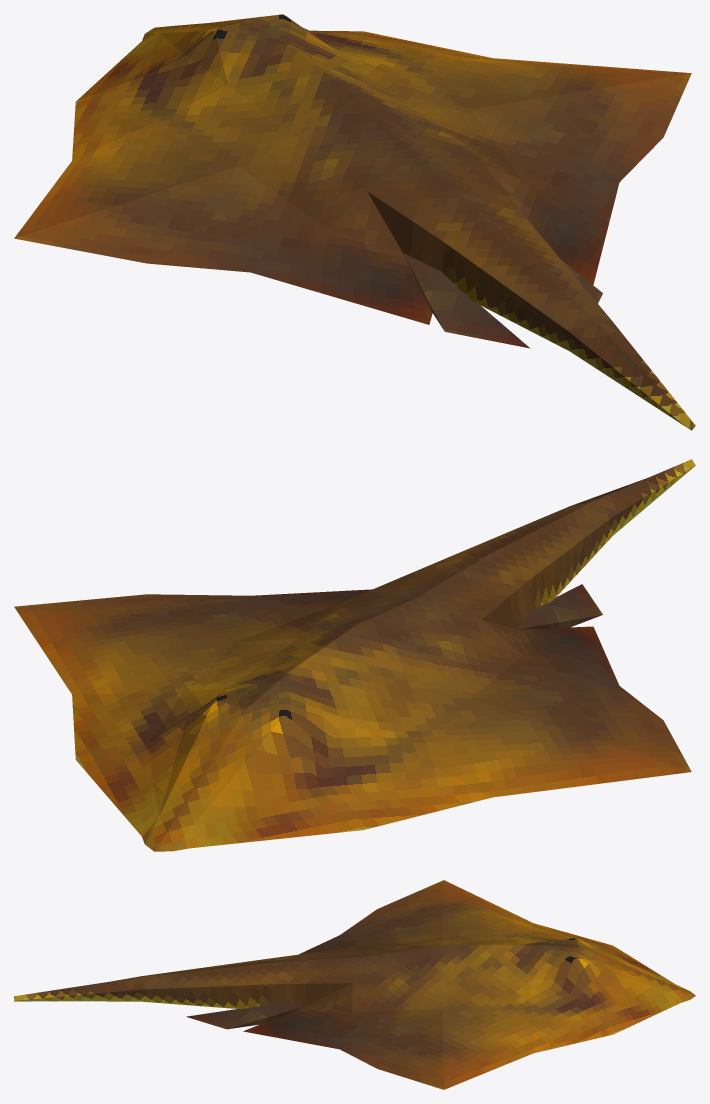
File: Ray_Ray_Brown.glb
The picture shows the model from 3 angles, top to bottom: view 1: azimuth 30°, elevation 25°; view 2: azimuth 150°, elevation 25°; view 3: azimuth 270°, elevation 25°; orthographic projection. The views are drawn at different scales.
Visible parts, largest first — view 1: Body, Tail1, Tail2; view 2: Body, Tail1, Tail2; view 3: Body, Tail1, Tail2.
Part boxes in pixels (x1,y1,x2,y2): Body: (14,14,691,348); Tail1: (441,219,612,350); Tail2: (569,317,695,430); Body: (14,556,691,851); Tail1: (444,502,612,609); Tail2: (571,459,695,535); Body: (186,880,695,1089); Tail1: (141,958,274,1009); Tail2: (14,976,141,1001).
Bounding box in the file's own units: 0.7268 × 0.1155 × 0.9979.
Materials: 1 (1 with a texture image).
